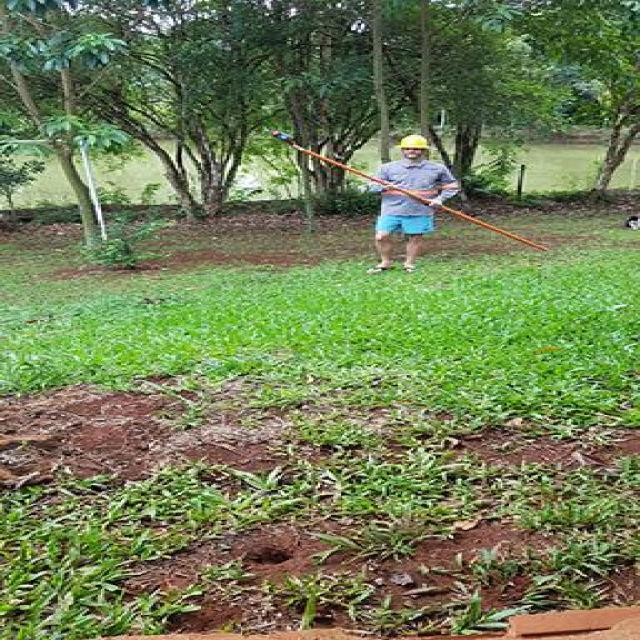helmet: (394, 132, 434, 160)
